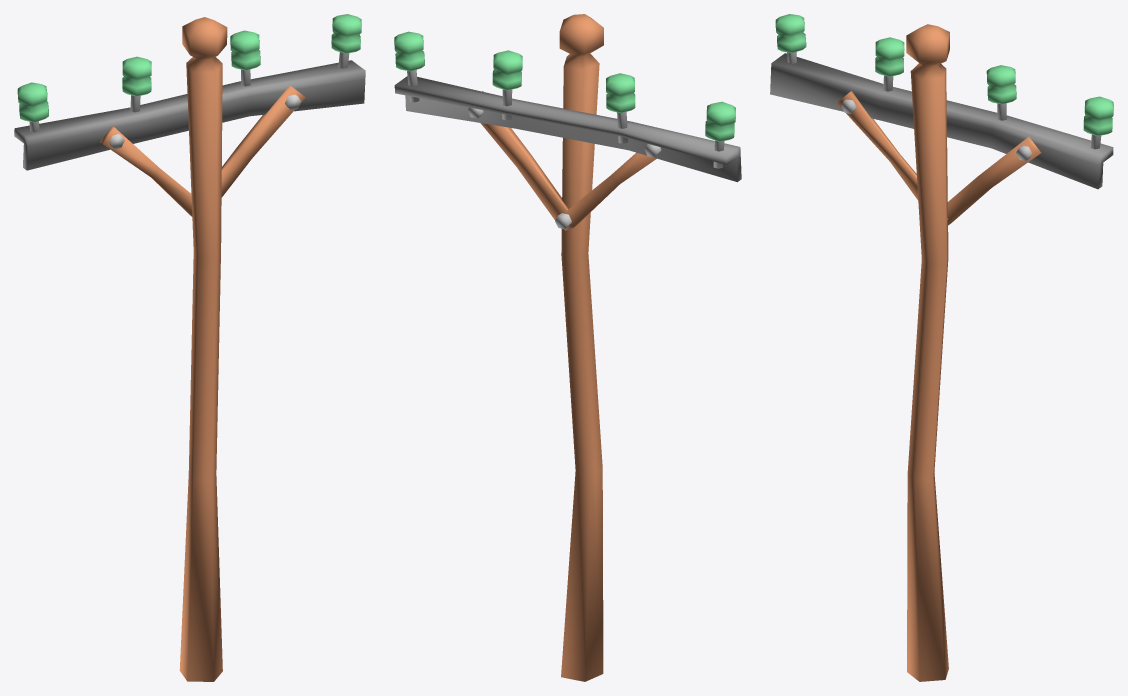
Rendered from Wire_Post.fbx.
3 renders of one model, left to right at view 1: azimuth 30°, elevation 25°; view 2: azimuth 150°, elevation 25°; view 3: azimuth 330°, elevation 25°, orthographic.
Visible parts, largest first — view 1: wire_post; view 2: wire_post; view 3: wire_post.
Boxes of the visible parts, <box> form: wire_post: <box>14,14,365,681</box>; wire_post: <box>394,14,741,681</box>; wire_post: <box>770,14,1113,681</box>.
Size of the model in its own units: 368 by 671 by 65.31.
